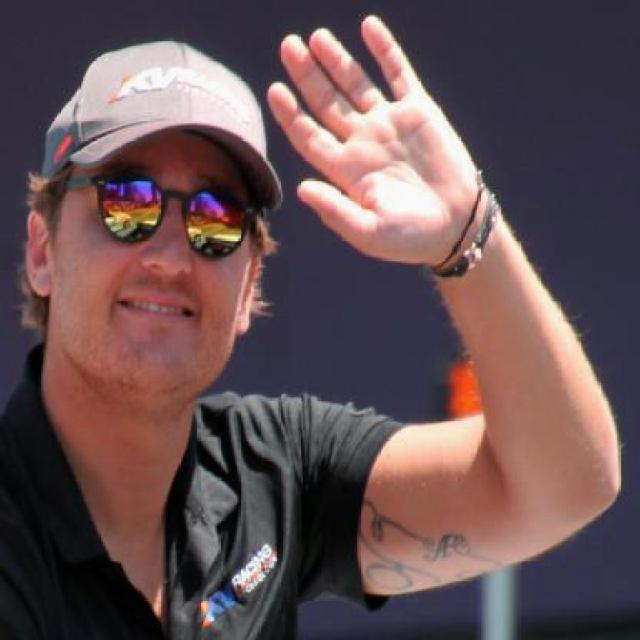face_nomask: (80, 165, 254, 347)
glasses: (64, 172, 262, 258)
hand_noglove: (263, 15, 491, 272)
head_nohelmet: (42, 35, 282, 193)
person: (1, 23, 618, 640)
